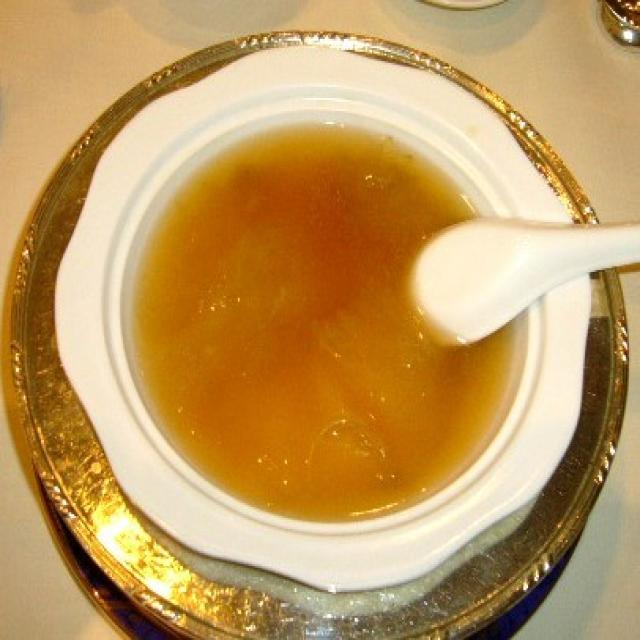汤锅炖物: (8, 15, 632, 634)
